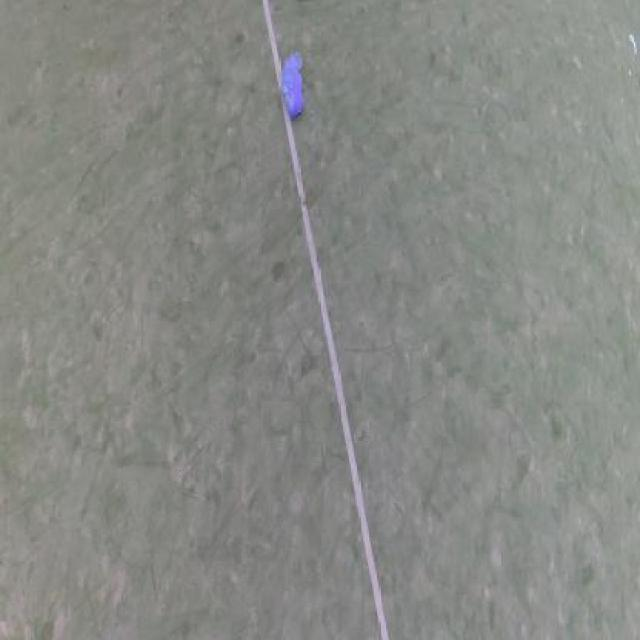Garbage: (280, 51, 305, 121), (628, 34, 638, 55), (627, 68, 631, 75)
